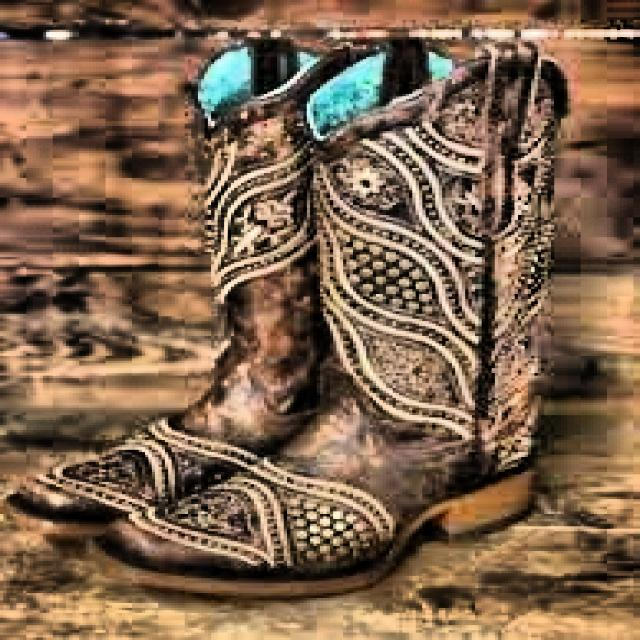shoes: (11, 36, 580, 602)
